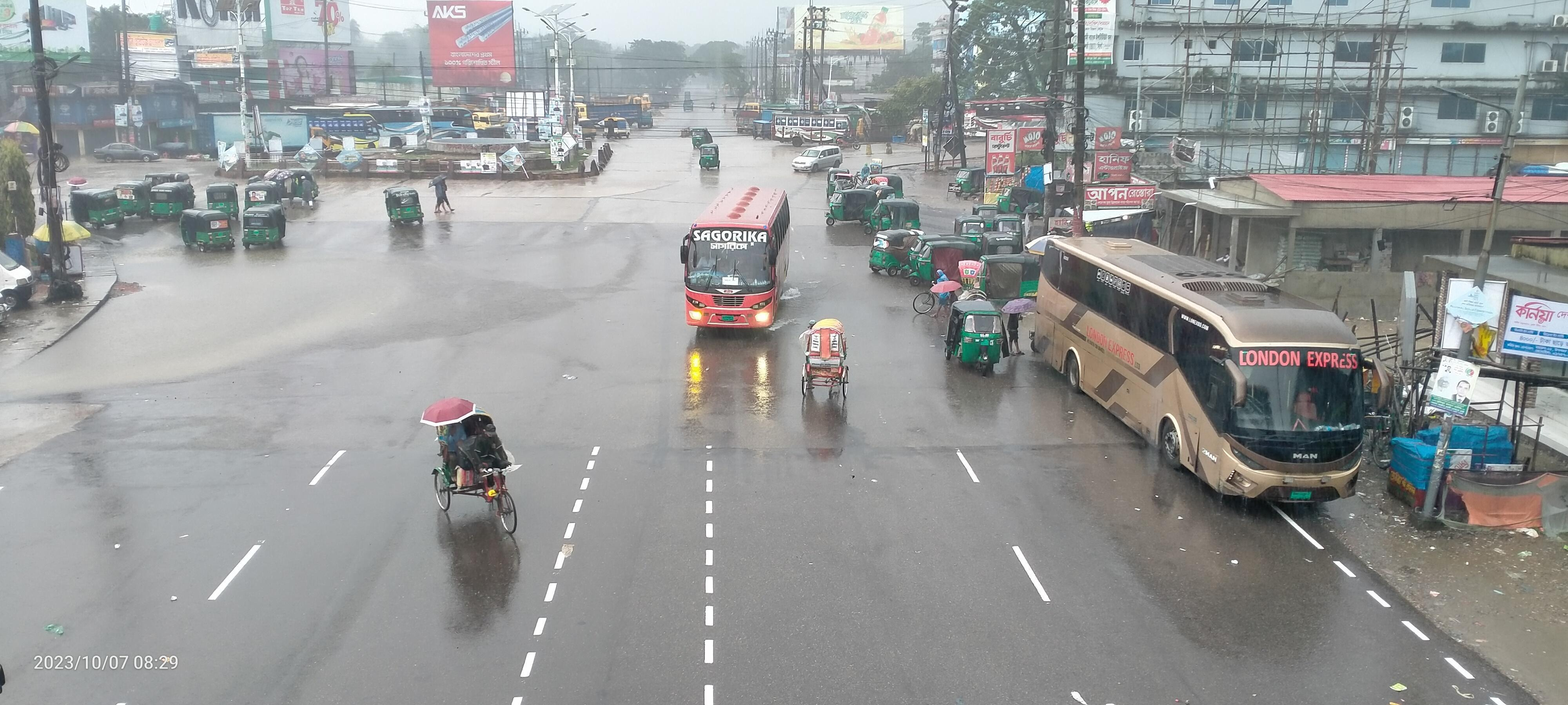Bus: (1025, 213, 1394, 539), (649, 174, 800, 357), (952, 83, 1083, 144), (345, 96, 441, 157), (296, 97, 395, 150), (762, 102, 859, 152)
Car: (416, 387, 525, 547), (786, 306, 872, 434), (782, 134, 859, 179), (82, 132, 165, 169), (465, 97, 508, 140), (603, 115, 634, 144)
Truck: (202, 100, 343, 177), (572, 81, 660, 135)
